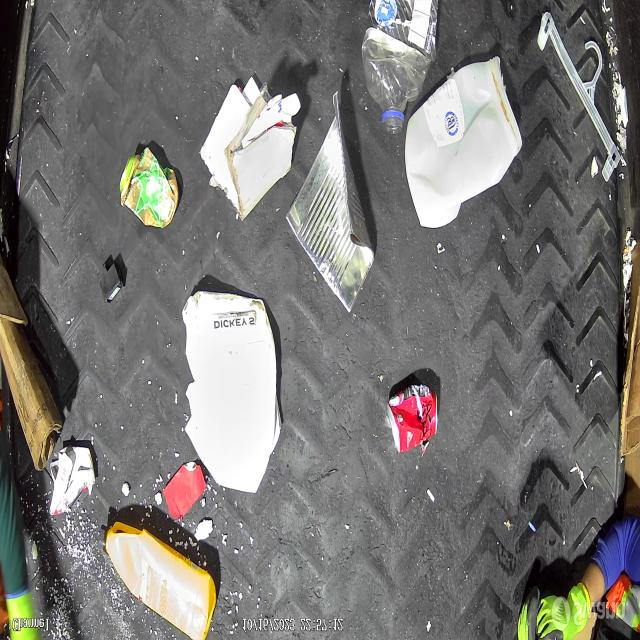can: (285, 86, 373, 315), (118, 154, 180, 228), (387, 384, 438, 455)
milk_jug: (404, 55, 522, 228)
non_white_jug: (107, 519, 218, 640)
plastic_bottle: (362, 0, 438, 134)
